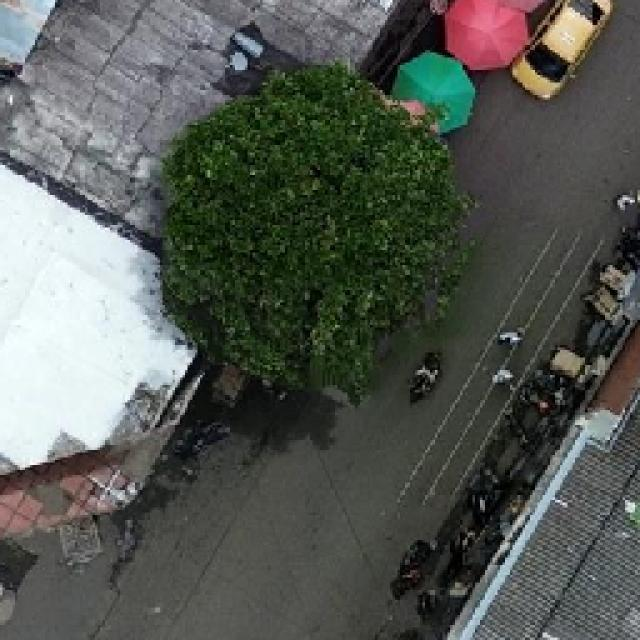vendedor_ambulante: (397, 50, 477, 134), (442, 0, 530, 70)
